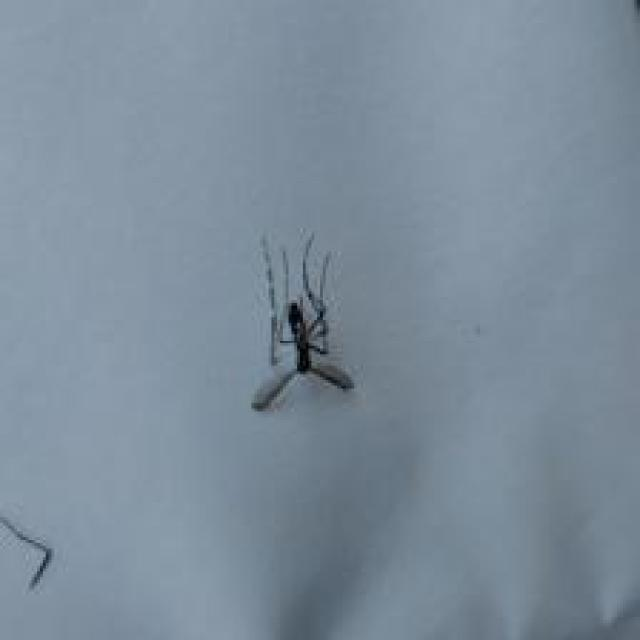Aedes albopictus: (250, 228, 356, 412)
